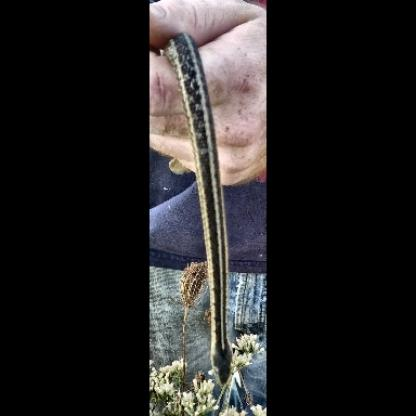Snake: (162, 31, 236, 388)
